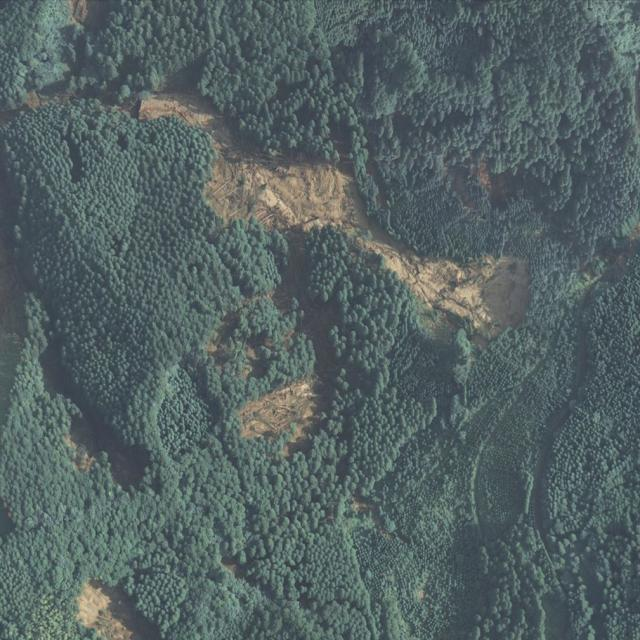landslide: (140, 92, 531, 347), (239, 380, 318, 444)
